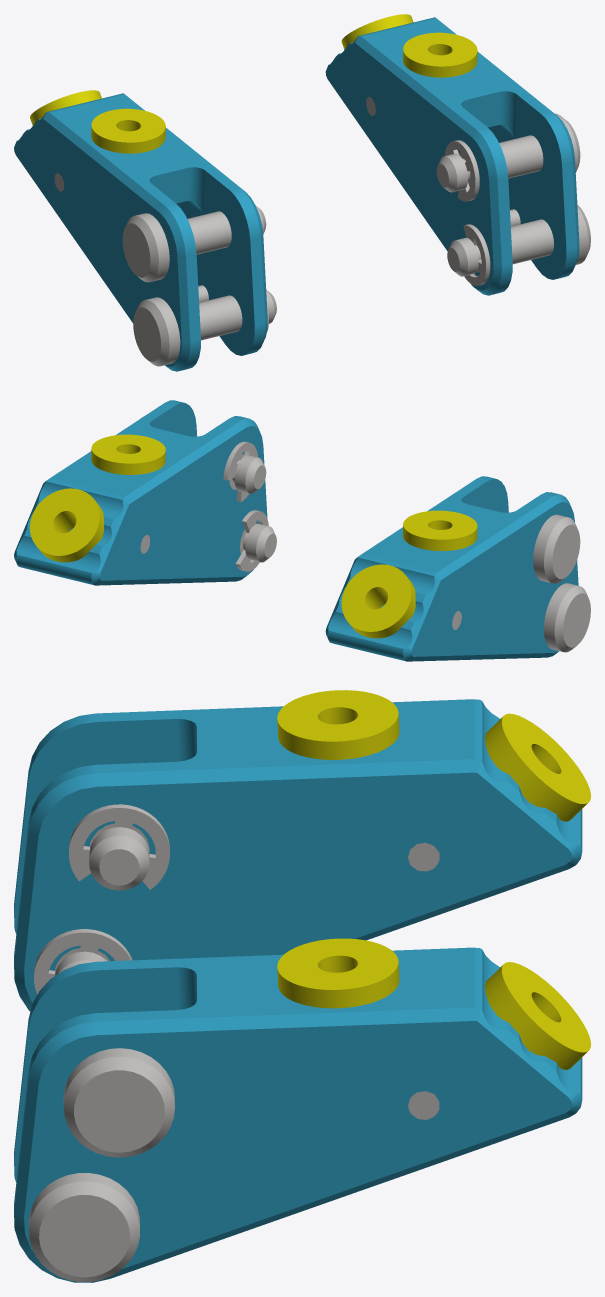
The model's file is RARM_INDEX_LINK3_mesh.dae.
3 renders of one model, top to bottom at view 1: azimuth 30°, elevation 25°; view 2: azimuth 150°, elevation 25°; view 3: azimuth 270°, elevation 25°, orthographic. The views are drawn at different scales.
Visible parts, largest first — view 1: サーフェス1_ncl1_1, サーフェス1, サーフェス1_ncl1_13, サーフェス1_ncl1_12, サーフェス1_ncl1_10, サーフェス1_ncl1_21, サーフェス1_ncl1_19, サーフェス1_ncl1_11, サーフェス1_ncl1_4, サーフェス1_ncl1_5, サーフェス1_ncl1_20, サーフェス1_ncl1_18; view 2: サーフェス1_ncl1_1, サーフェス1, サーフェス1_ncl1_20, サーフェス1_ncl1_18, サーフェス1_ncl1_21, サーフェス1_ncl1_19, サーフェス1_ncl1_12, サーフェス1_ncl1_13, サーフェス1_ncl1_10, サーフェス1_ncl1_11, サーフェス1_ncl1_4, サーフェス1_ncl1_5; view 3: サーフェス1_ncl1_1, サーフェス1, サーフェス1_ncl1_11, サーフェス1_ncl1_10, サーフェス1_ncl1_19, サーフェス1_ncl1_21, サーフェス1_ncl1_20, サーフェス1_ncl1_18, サーフェス1_ncl1_3, サーフェス1_ncl1_12, サーフェス1_ncl1_2.
Boxes of the visible parts, x1,y1,x2,y2 form: サーフェス1_ncl1_1: [325, 17, 579, 295]; サーフェス1: [14, 93, 267, 371]; サーフェス1_ncl1_13: [133, 290, 276, 366]; サーフェス1_ncl1_12: [122, 206, 266, 282]; サーフェス1_ncl1_10: [447, 205, 590, 276]; サーフェス1_ncl1_21: [91, 108, 165, 153]; サーフェス1_ncl1_19: [403, 32, 477, 77]; サーフェス1_ncl1_11: [436, 113, 580, 192]; サーフェス1_ncl1_4: [444, 140, 479, 201]; サーフェス1_ncl1_5: [463, 224, 490, 285]; サーフェス1_ncl1_20: [30, 90, 101, 125]; サーフェス1_ncl1_18: [341, 14, 413, 49]; サーフェス1_ncl1_1: [14, 400, 267, 585]; サーフェス1: [325, 476, 578, 661]; サーフェス1_ncl1_20: [341, 564, 415, 638]; サーフェス1_ncl1_18: [30, 488, 103, 562]; サーフェス1_ncl1_21: [403, 510, 477, 550]; サーフェス1_ncl1_19: [91, 434, 165, 474]; サーフェス1_ncl1_12: [533, 514, 580, 583]; サーフェス1_ncl1_13: [544, 583, 590, 652]; サーフェス1_ncl1_10: [240, 523, 276, 562]; サーフェス1_ncl1_11: [140, 416, 266, 493]; サーフェス1_ncl1_4: [223, 441, 257, 502]; サーフェス1_ncl1_5: [235, 510, 268, 571]; サーフェス1_ncl1_1: [14, 947, 582, 1282]; サーフェス1: [14, 699, 582, 1011]; サーフェス1_ncl1_11: [63, 1048, 174, 1157]; サーフェス1_ncl1_10: [29, 1173, 139, 1282]; サーフェス1_ncl1_19: [277, 938, 399, 1008]; サーフェス1_ncl1_21: [277, 690, 399, 759]; サーフェス1_ncl1_20: [485, 713, 590, 821]; サーフェス1_ncl1_18: [485, 962, 590, 1069]; サーフェス1_ncl1_3: [69, 804, 169, 889]; サーフェス1_ncl1_12: [89, 823, 149, 890]; サーフェス1_ncl1_2: [34, 929, 132, 994].
Size of the model in its own units: 0.04 by 0.0285 by 0.0158.
